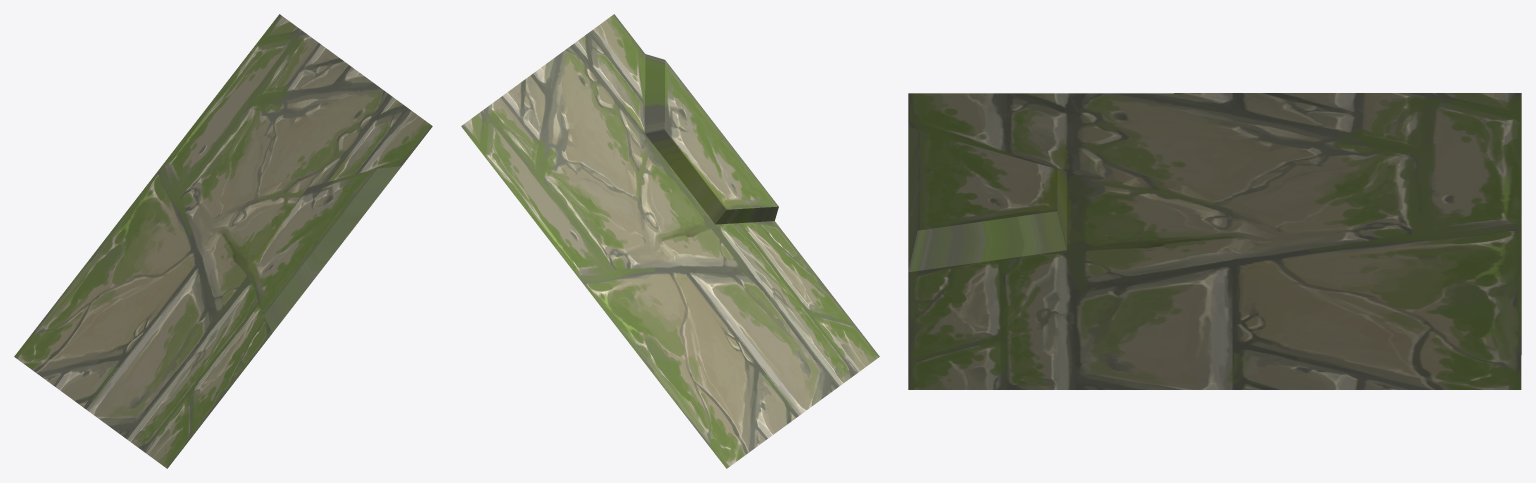
Rendered from diagonal_type2.fbx.
The picture shows the model from 3 angles, left to right: view 1: azimuth 30°, elevation 25°; view 2: azimuth 150°, elevation 25°; view 3: azimuth 270°, elevation 25°; orthographic projection. The views are drawn at different scales.
Parts seen in each view (by area): view 1: diagonal1_v_cap7; view 2: diagonal1_v_cap7; view 3: diagonal1_v_cap7.
Part boxes in pixels (x1,y1,x2,y2): diagonal1_v_cap7: (14,14,432,468); diagonal1_v_cap7: (461,14,879,468); diagonal1_v_cap7: (908,93,1521,389).
Size of the model in its own units: 2 by 2 by 2.
